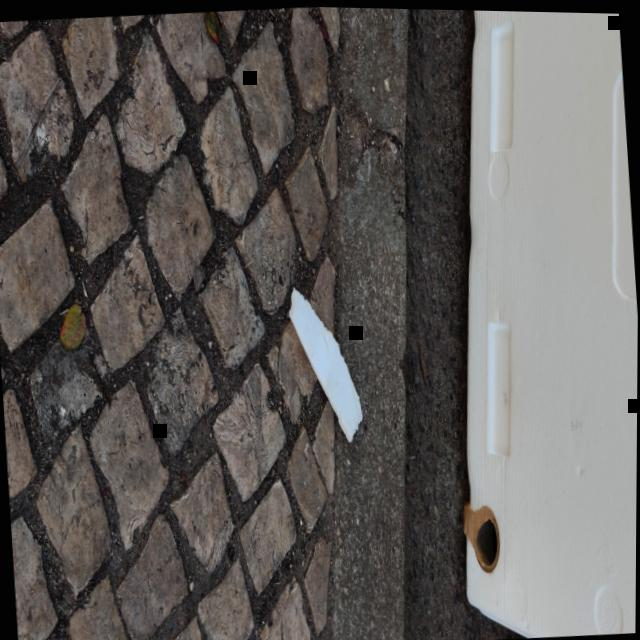Corrugated carton: (463, 501, 499, 570)
Styrofoam piece: (466, 8, 638, 635), (288, 285, 362, 440)
